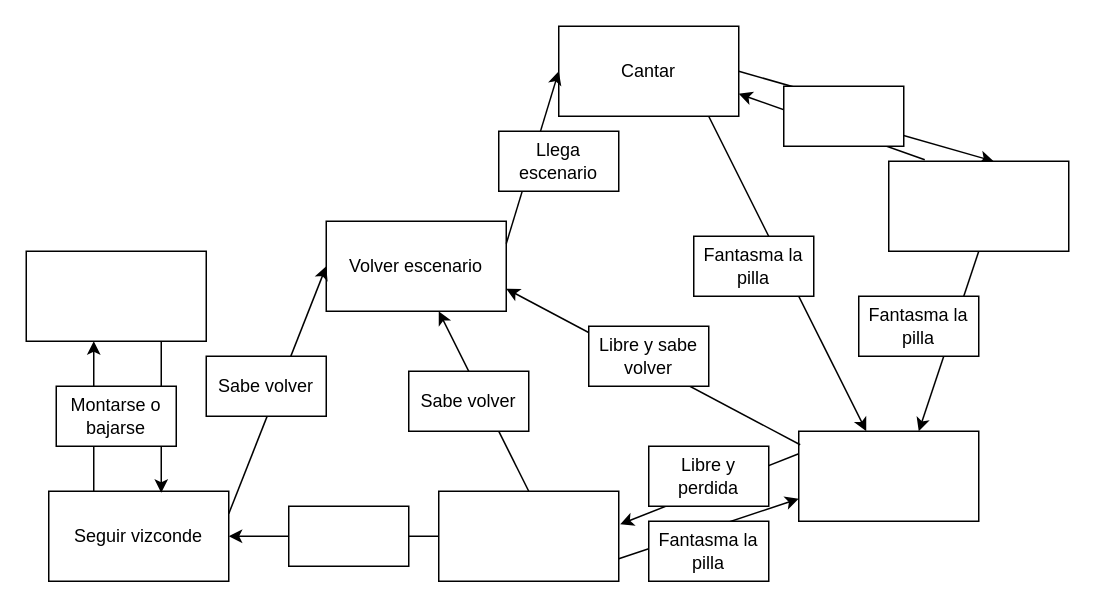
The diagram is 1095 pixels wide and 608 high, and some of its shapes have lost their labels. Each missing label, with the centre of its shape:
Alterna: pixel 843 115
Barca: pixel 115 295
Capturada: pixel 888 475
Descansar: pixel 978 205
Merodear: pixel 528 535
Ve al vizconde: pixel 348 535
